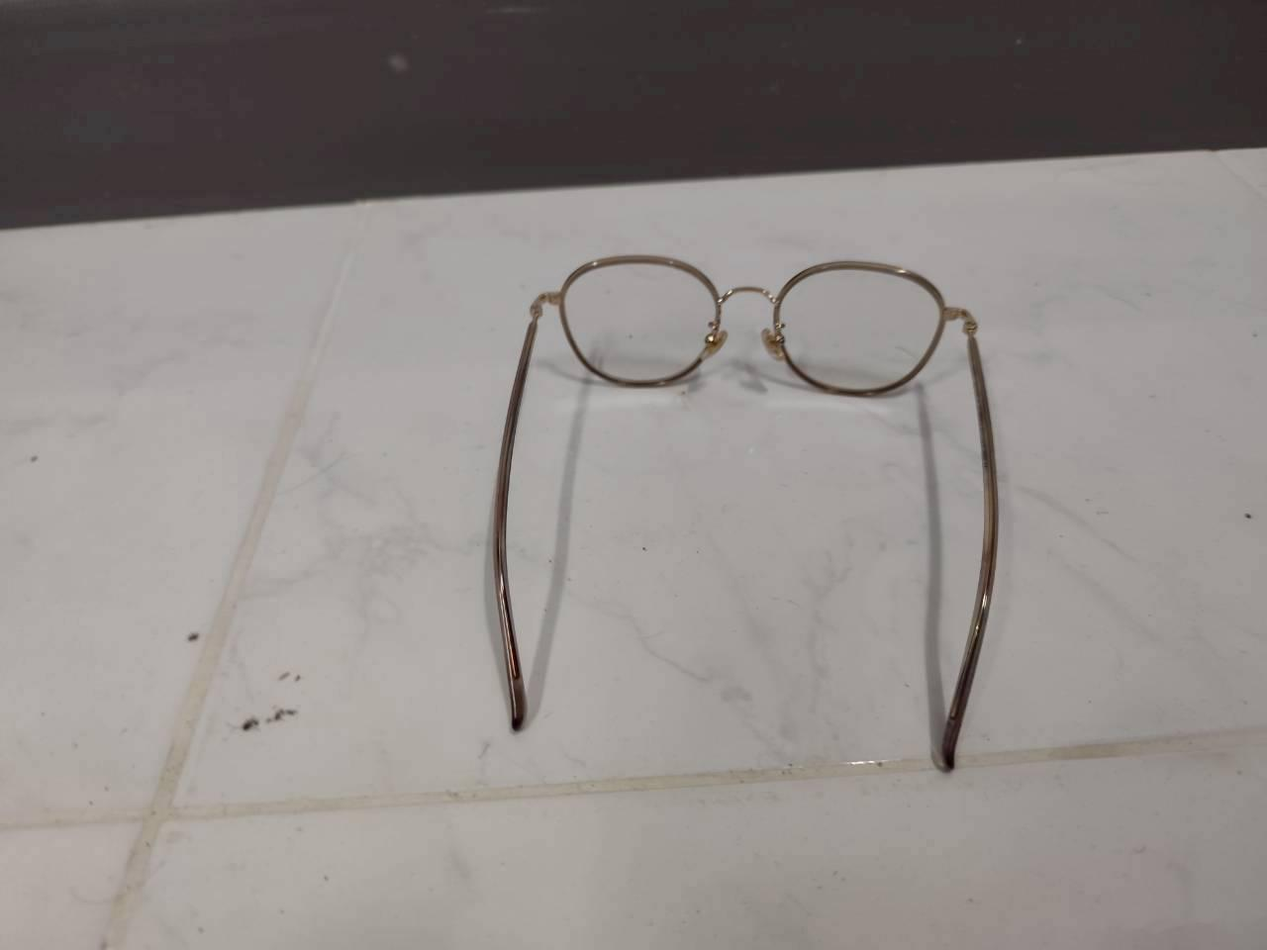glasses: (476, 246, 1037, 776)
